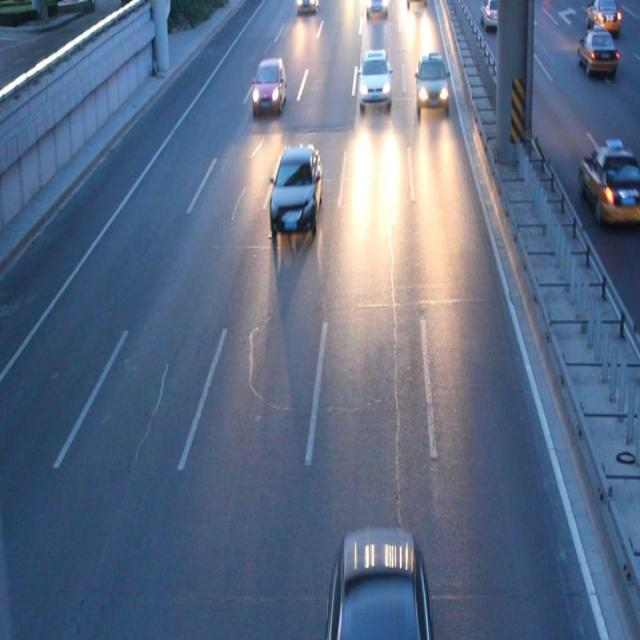car: (333, 533, 428, 640), (578, 146, 640, 219), (270, 144, 322, 228), (576, 29, 617, 73), (252, 60, 286, 111), (358, 52, 390, 102), (416, 56, 448, 106), (584, 1, 619, 31), (479, 1, 510, 29), (366, 1, 388, 17), (296, 1, 319, 12)
